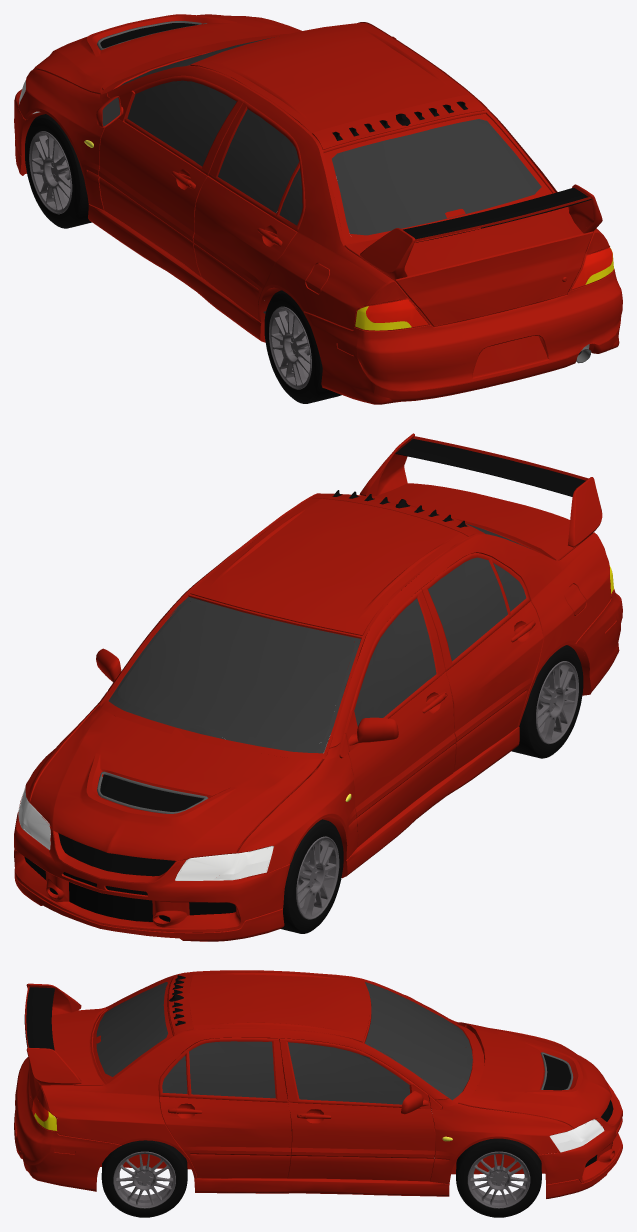
Rendered from EVO.fbx.
3 renders of one model, top to bottom at view 1: azimuth 30°, elevation 25°; view 2: azimuth 150°, elevation 25°; view 3: azimuth 270°, elevation 25°, orthographic. The views are drawn at different scales.
Parts seen in each view (by area): view 1: Mitsubishi Evolution 9, R Wheels.001, R Wheels; view 2: Mitsubishi Evolution 9, R Wheels, R Wheels.001; view 3: Mitsubishi Evolution 9, R Wheels.001, R Wheels.
Part boxes in pixels (x1,y1,x2,y2): Mitsubishi Evolution 9: (14, 14, 622, 404); R Wheels.001: (25, 114, 91, 228); R Wheels: (264, 290, 341, 403); Mitsubishi Evolution 9: (14, 433, 622, 941); R Wheels: (511, 645, 583, 758); R Wheels.001: (280, 819, 343, 933); Mitsubishi Evolution 9: (14, 970, 622, 1198); R Wheels.001: (456, 1138, 541, 1217); R Wheels: (101, 1140, 187, 1217).
Bounding box in the file's own units: 748 × 568 × 1777.
Materials: 3 (1 with a texture image).
